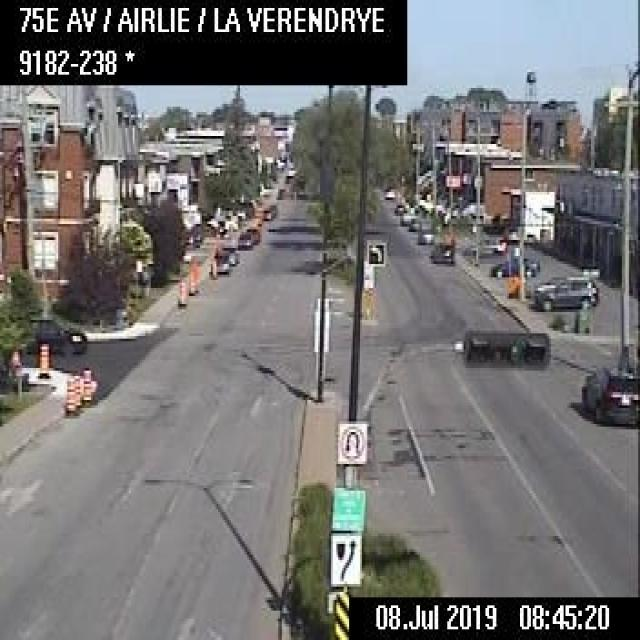construction: (36, 342, 49, 374), (8, 348, 22, 377), (81, 366, 91, 401), (64, 376, 73, 414), (71, 373, 81, 406), (176, 276, 186, 304), (187, 265, 195, 295), (193, 261, 199, 293), (209, 258, 216, 275)
vehicle: (578, 360, 638, 424), (530, 270, 598, 310), (22, 317, 85, 352), (488, 250, 539, 276), (464, 234, 506, 254), (428, 238, 452, 263), (218, 243, 238, 264), (211, 250, 227, 275), (244, 224, 260, 244), (416, 226, 433, 244), (236, 229, 252, 248), (406, 214, 421, 230), (392, 201, 405, 213), (399, 209, 411, 222), (260, 205, 271, 219)
